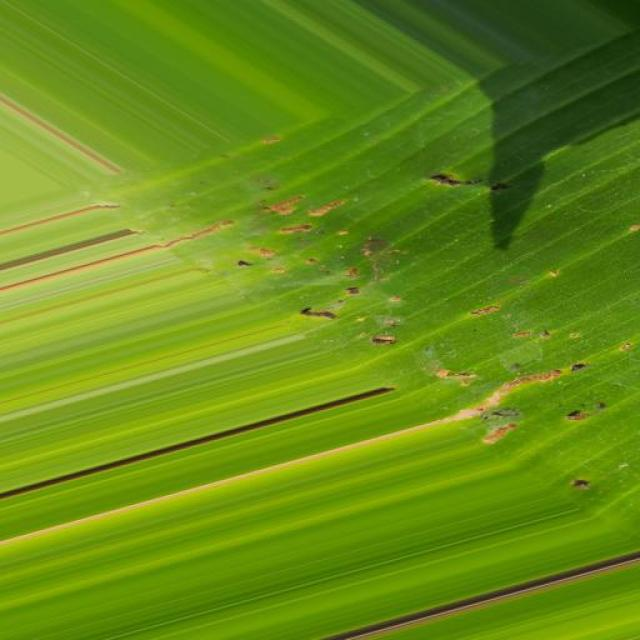Black_rot: (140, 147, 640, 528)
